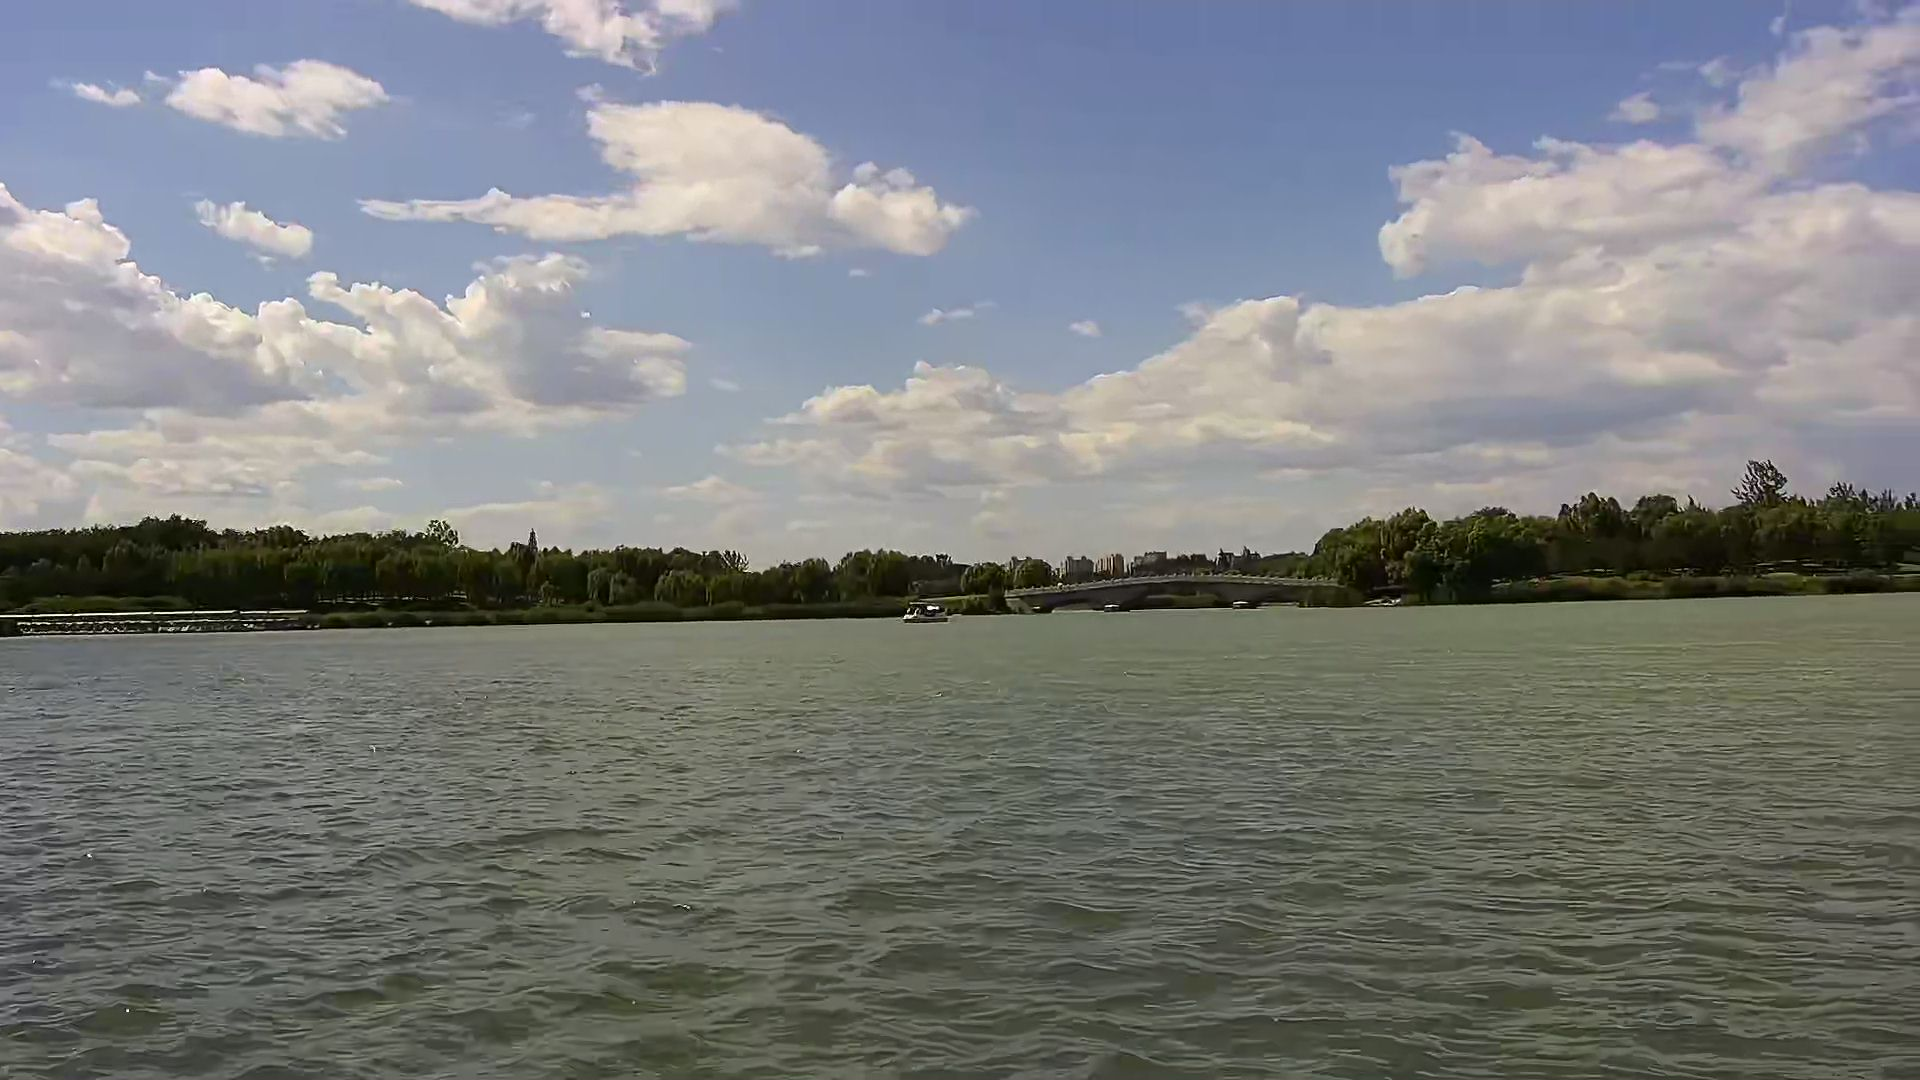boat: (895, 601, 952, 622)
bridge: (1014, 578, 1345, 607), (7, 611, 306, 632)
